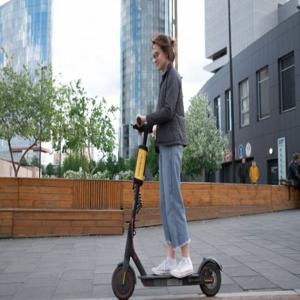human on a scooter: (110, 32, 224, 300)
